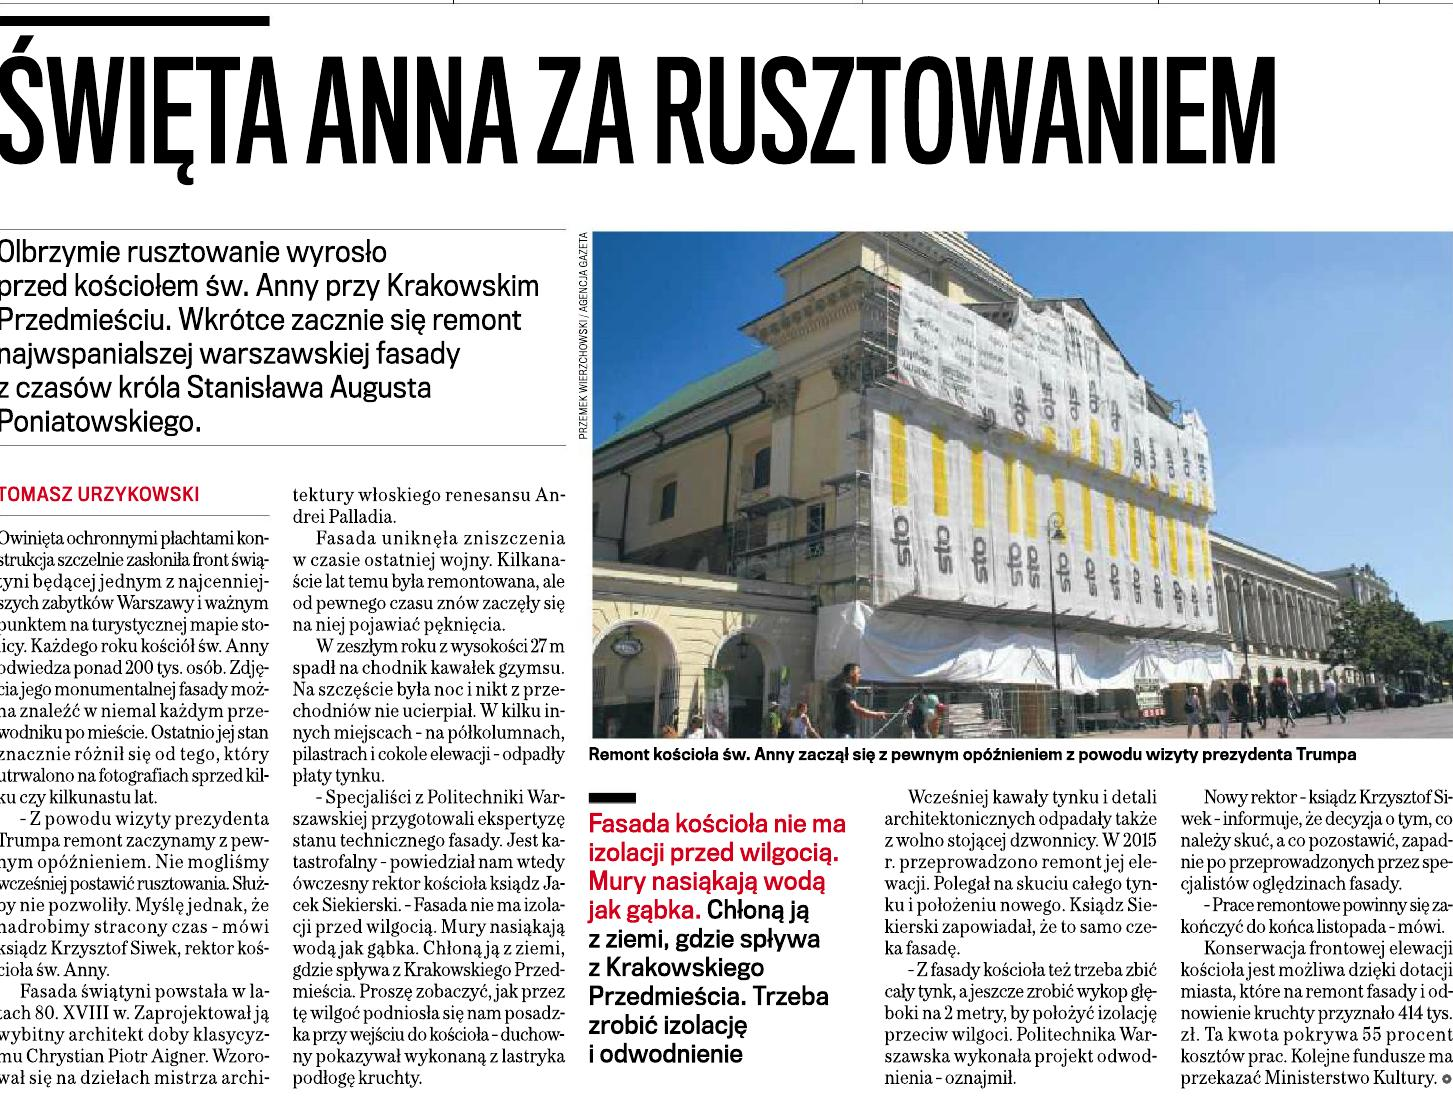author: (0, 476, 211, 511)
body: (289, 478, 575, 1094), (0, 527, 278, 1092), (869, 780, 1168, 1092), (1176, 780, 1453, 1097), (582, 785, 856, 1075)
caption: (584, 742, 1372, 766)
image: (588, 229, 1453, 742)
lead: (0, 235, 549, 440)
title: (0, 30, 1320, 188)
